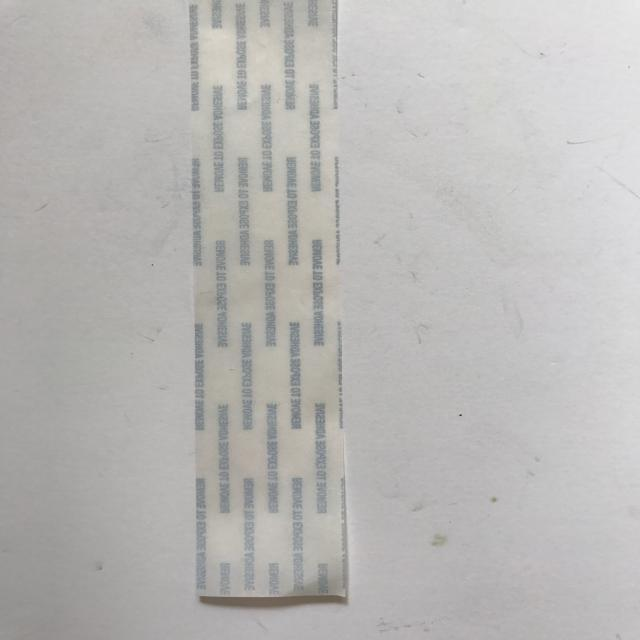paper: (184, 1, 350, 604)
